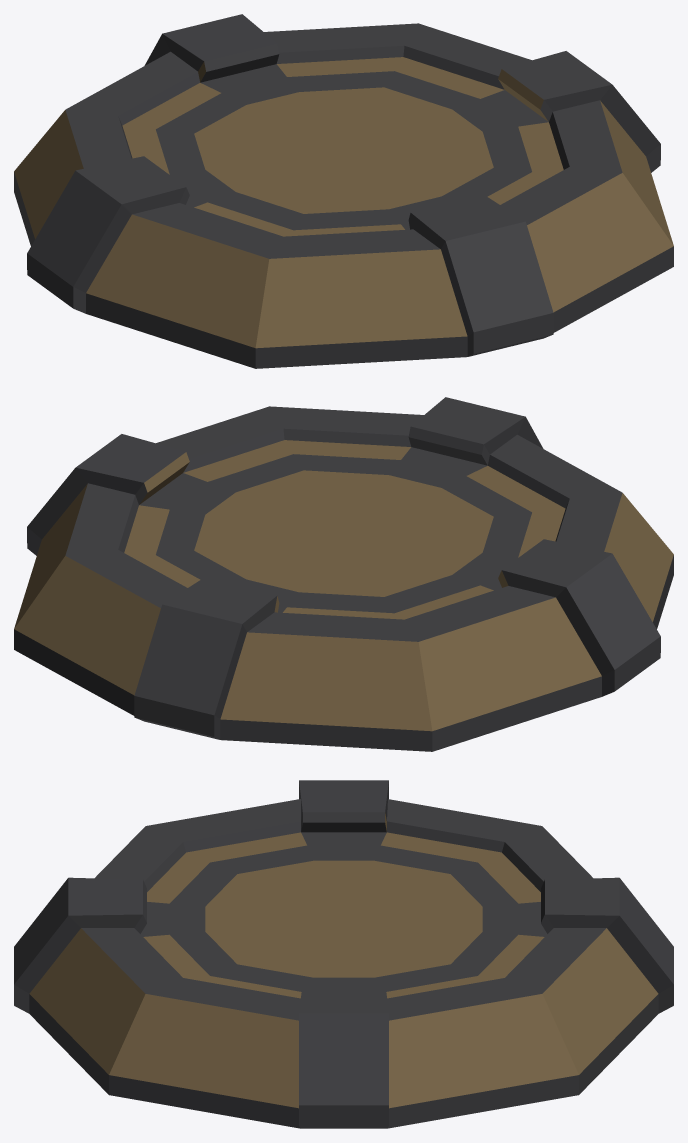
File: MoneysHolder.fbx
3 views of the same model, one above another, from view 1: azimuth 30°, elevation 25°; view 2: azimuth 150°, elevation 25°; view 3: azimuth 270°, elevation 25° (orthographic). The views are drawn at different scales.
Visible parts, largest first — view 1: Cylinder.008; view 2: Cylinder.008; view 3: Cylinder.008.
Part boxes in pixels (box(x1,y1,x2,y2)): Cylinder.008: box(14, 14, 673, 368); Cylinder.008: box(14, 397, 673, 751); Cylinder.008: box(14, 780, 673, 1128).
Bounding box in the file's own units: 29.79 × 4.94 × 29.79.
